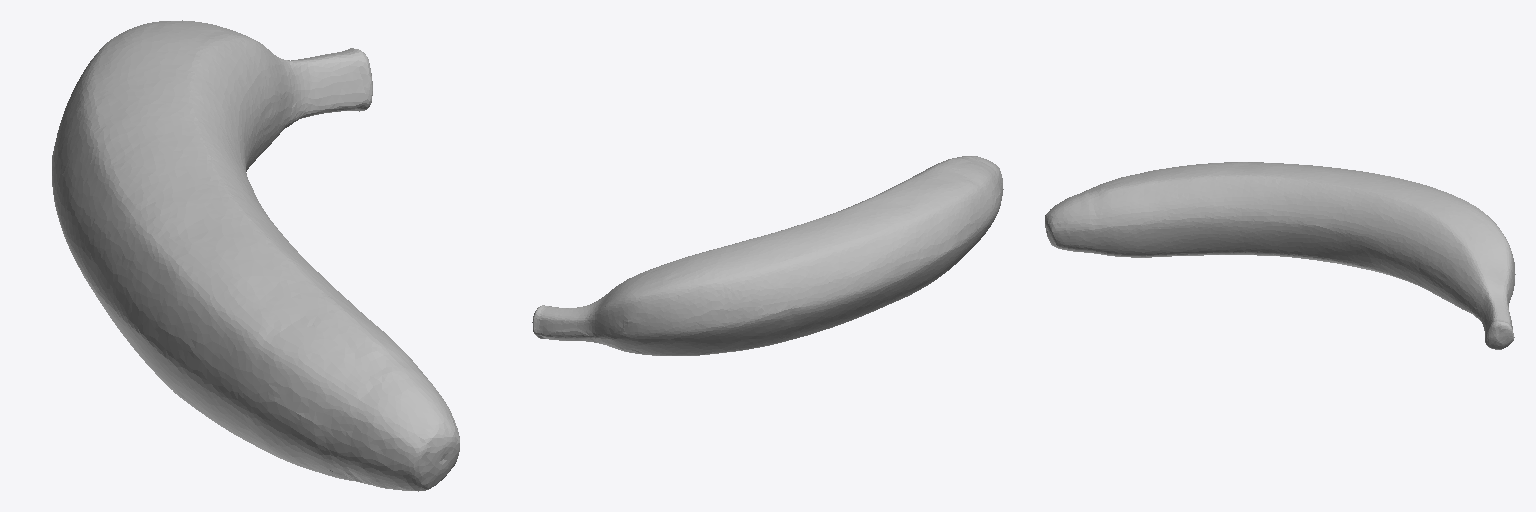
The robot description file, URDF, robot "root":
<?xml version="1.0"?>
<robot name="root">
  <link name="base_link">
    <visual>
      <origin xyz="0 0 0" rpy="0 0 0" />
      <geometry>
        <mesh filename="011_banana.stl" scale="1.0000E+00 1.0000E+00 1.0000E+00" />
      </geometry>
      <material name="">
        <color rgba="7.50E-01 7.50E-01 7.50E-01 1" />
      </material>
    </visual>
    <collision>
      <origin xyz="0 0 0" rpy="0 0 0" />
      <geometry>
        <mesh filename="011_banana.stl" scale="1.0000E+00 1.0000E+00 1.0000E+00" />
      </geometry>
    </collision>
  </link>
</robot>

--- Render facts (derived) ---
Views: 3 orthographic renders of the robot side by side, from view 1: azimuth 30°, elevation 25°; view 2: azimuth 150°, elevation 25°; view 3: azimuth 270°, elevation 25°.
Robot: root — 1 links, 0 joints (none); root link base_link; default pose: all joints at 0.
Visible links, largest first — view 1: base_link; view 2: base_link; view 3: base_link.
Link boxes in pixels (x1,y1,x2,y2): base_link: [52, 20, 459, 491]; base_link: [532, 156, 1003, 355]; base_link: [1045, 162, 1515, 349].
Bounding box of the posed robot: 0.1089 × 0.1784 × 0.0367 m (x, y, z).
1 mesh visuals loaded from 1 distinct referenced files (1 binary STL).